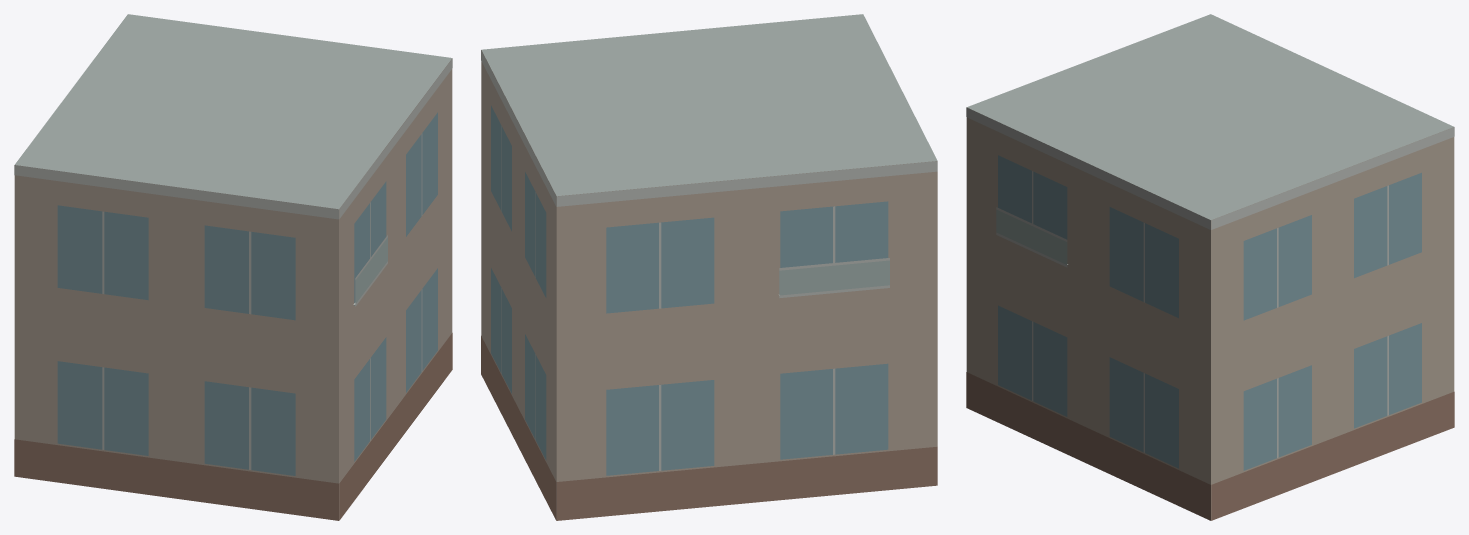
Rendered from survey-upis-32920077.glb.
3 renders of one model, left to right at view 1: azimuth 30°, elevation 25°; view 2: azimuth 150°, elevation 25°; view 3: azimuth 270°, elevation 25°, orthographic. The views are drawn at different scales.
Visible parts, largest first — view 1: survey-upis-32920077.tmp; view 2: survey-upis-32920077.tmp; view 3: survey-upis-32920077.tmp.
Boxes of the visible parts, left/top/right/bottom form: survey-upis-32920077.tmp: left=14, top=14, right=452, bottom=520; survey-upis-32920077.tmp: left=481, top=14, right=937, bottom=520; survey-upis-32920077.tmp: left=966, top=14, right=1454, bottom=520.
Bounding box in the file's own units: 10.9 × 7.4 × 10.89.
